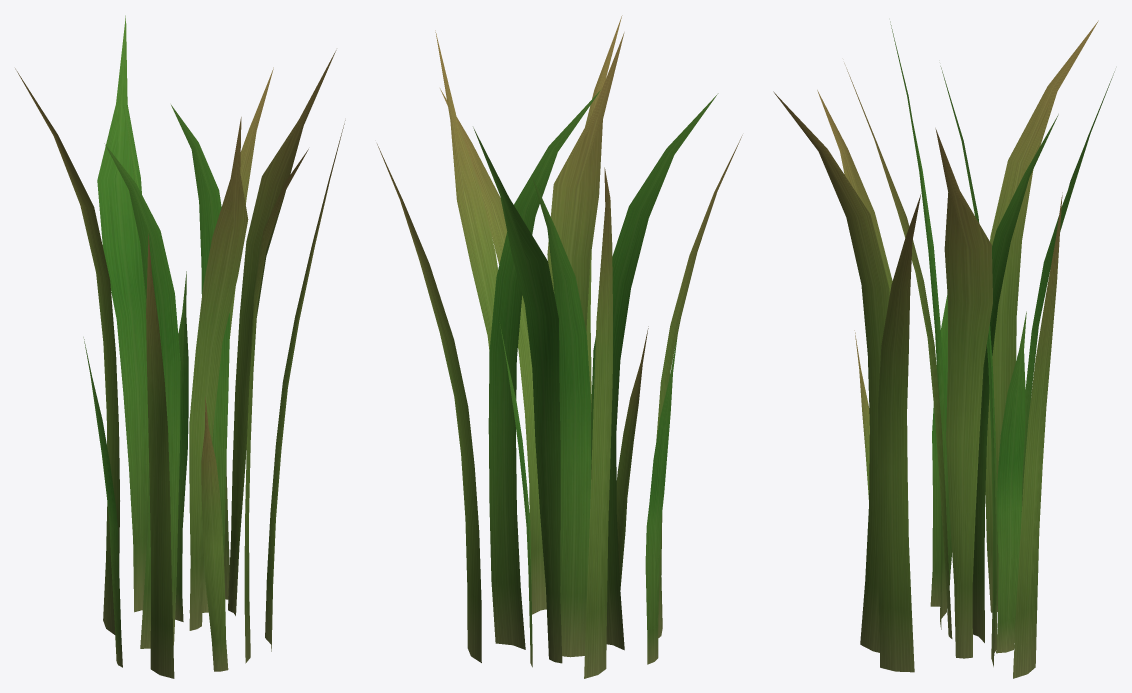
Rendered from Grass_Common_Tall.gltf.
The picture shows the model from 3 angles, left to right: view 1: azimuth 30°, elevation 25°; view 2: azimuth 150°, elevation 25°; view 3: azimuth 270°, elevation 25°; orthographic projection. The views are drawn at different scales.
Parts seen in each view (by area): view 1: Grass_Common_Tall; view 2: Grass_Common_Tall; view 3: Grass_Common_Tall.
Part boxes in pixels (<box>): Grass_Common_Tall: <box>15,15,345,678</box>; Grass_Common_Tall: <box>377,15,742,678</box>; Grass_Common_Tall: <box>773,20,1114,678</box>.
Bounding box in the file's own units: 0.8952 × 1.87 × 0.9932.
1 material, 1 textured.
